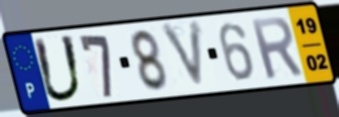6: (217, 20, 257, 83)
7: (76, 33, 113, 99)
8: (129, 28, 168, 93)
R: (247, 14, 306, 82)
U: (31, 33, 86, 105)
V: (158, 18, 208, 94)
